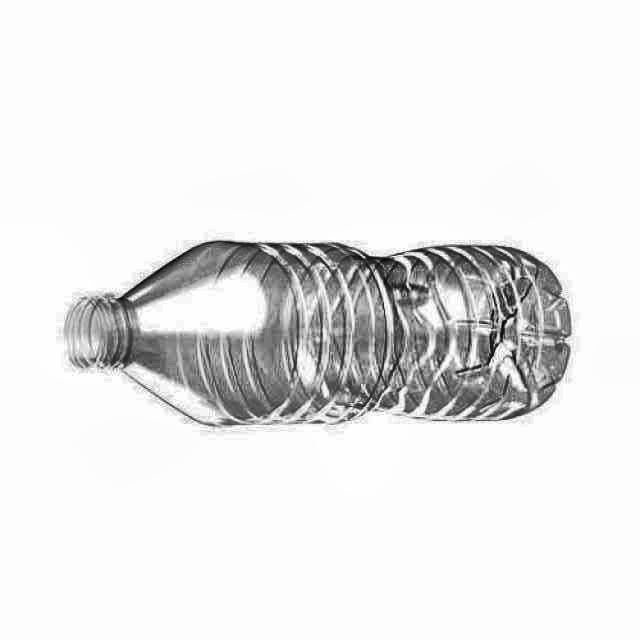plastic: (65, 241, 571, 424)
